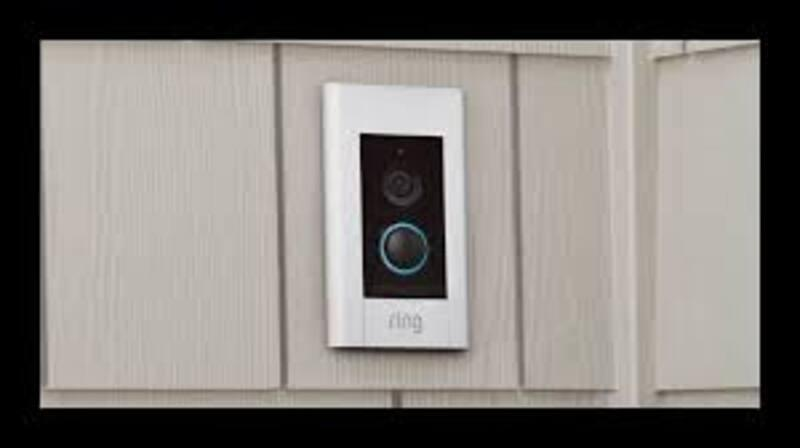doorbell: (310, 76, 474, 360)
